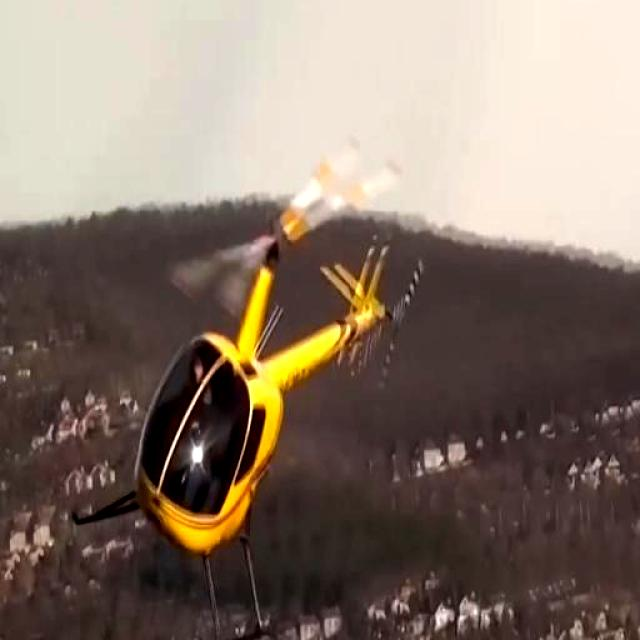drone: (89, 142, 422, 640)
